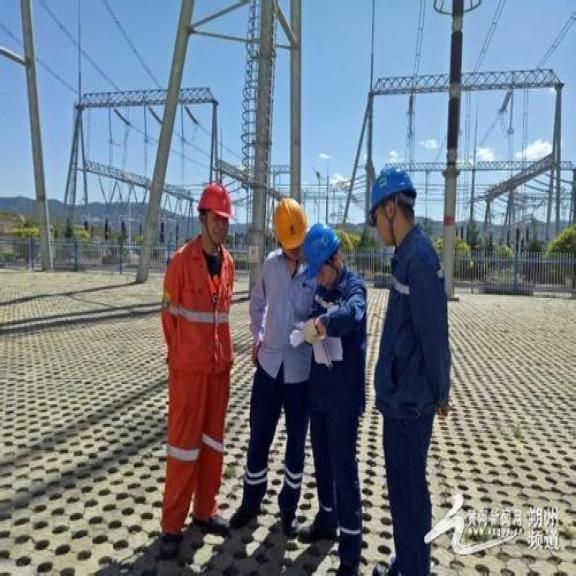no_safety_vest: (376, 232, 454, 428), (249, 248, 314, 382), (311, 273, 369, 411)
safety_vest: (160, 243, 234, 372)
